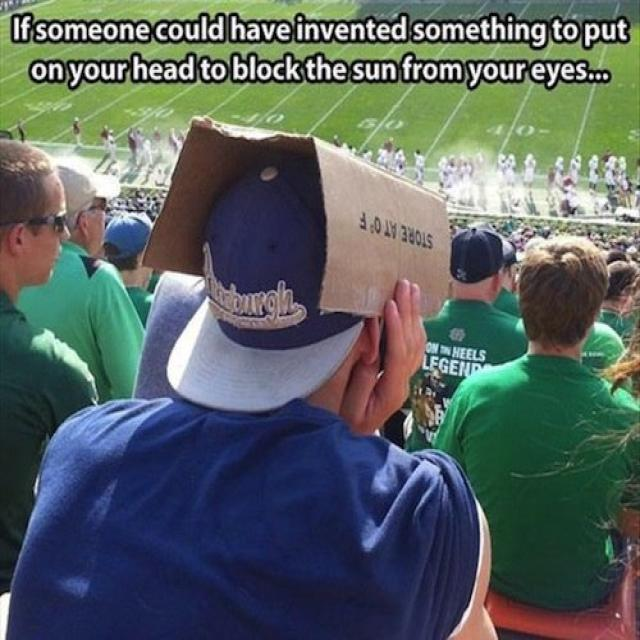cap: (157, 149, 386, 421), (55, 150, 120, 255), (448, 226, 513, 308)
head: (516, 232, 608, 360), (0, 147, 67, 287)
